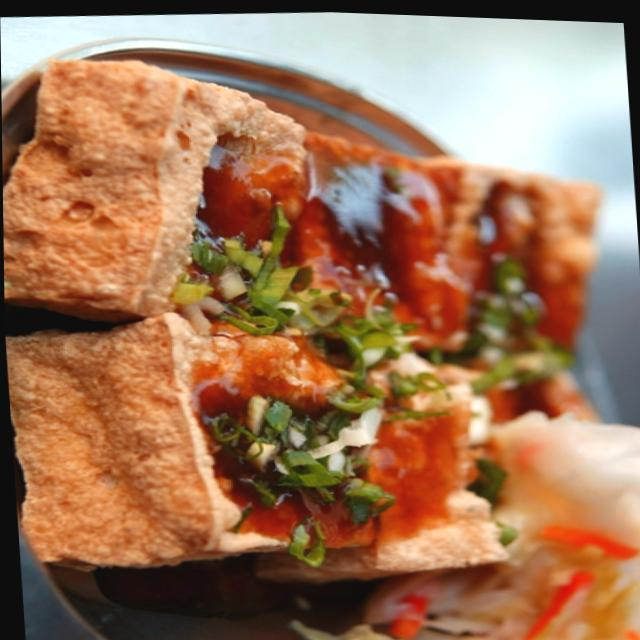豆腐料理: (0, 5, 640, 640)
